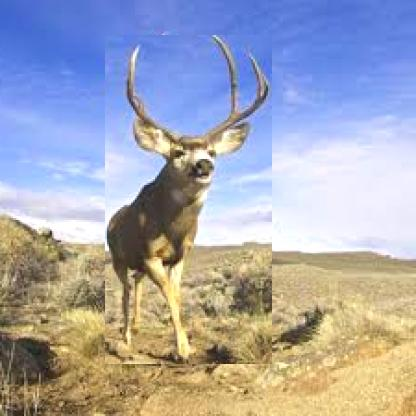Deer: (105, 35, 272, 364)
